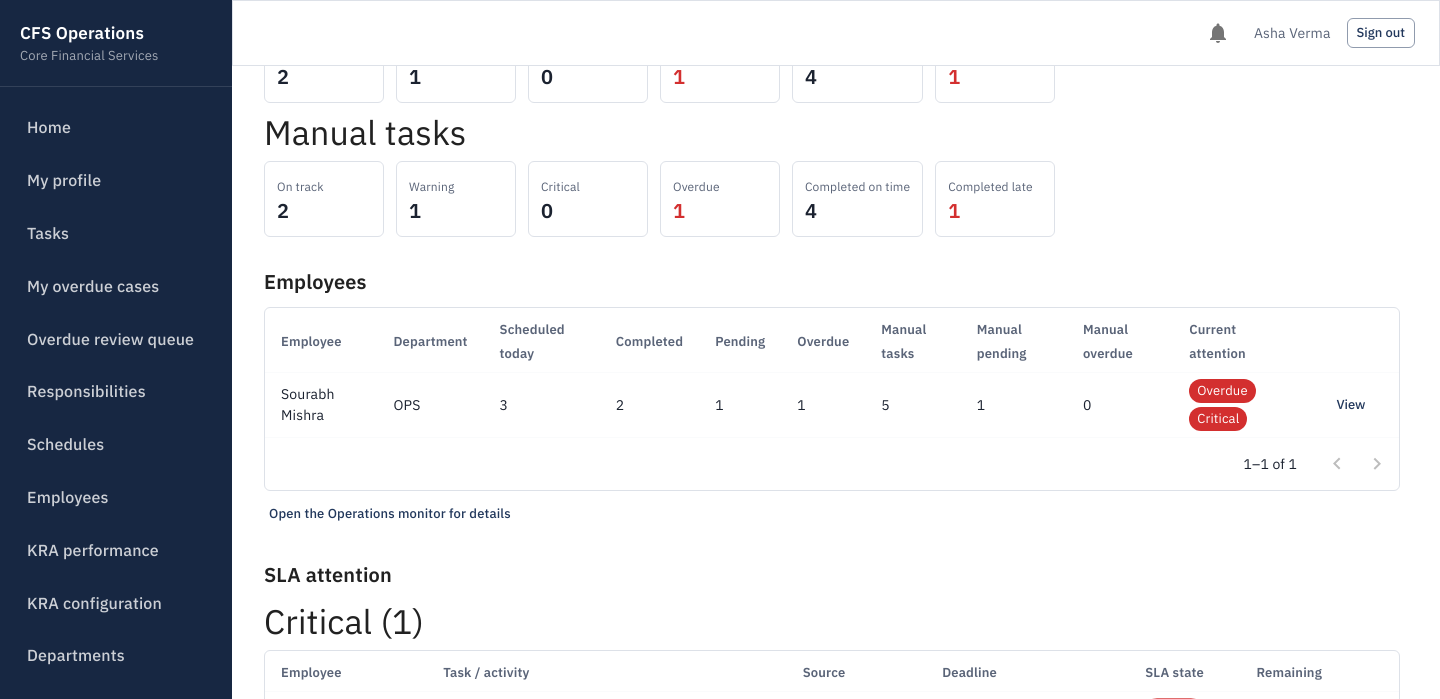
Command center (Admin = Boss) › opens a read-only drill-down that keeps the two kinds of work apart
(page scrolled)
Click the button "View": point(1351, 405) [1319,390,1383,420]
(page scrolled)
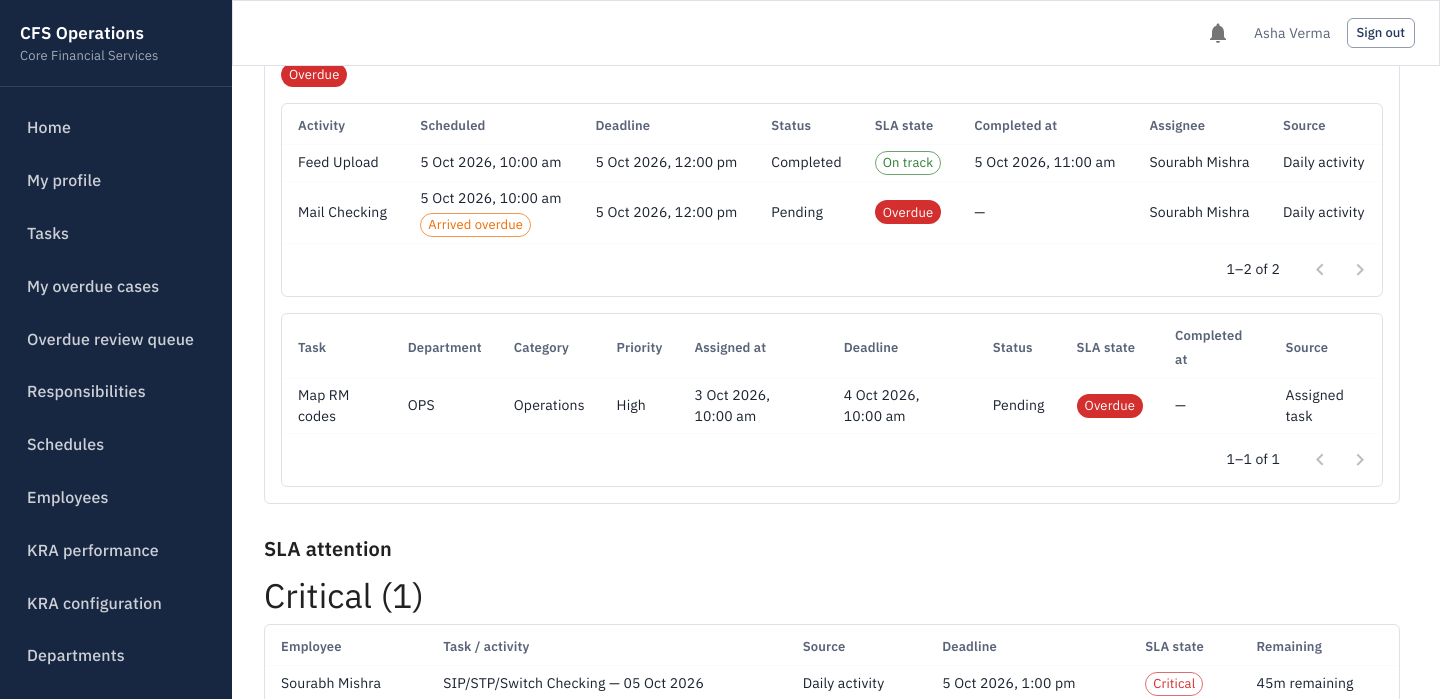
Now the text "Feed Upload" is shown, box [282,144,404,181]
Now the text "Daily activity" is shown 2 times, box [1267,144,1382,181]; [1267,181,1382,243]
Now the column heading "Scheduled" is shown, box [404,108,580,144]
